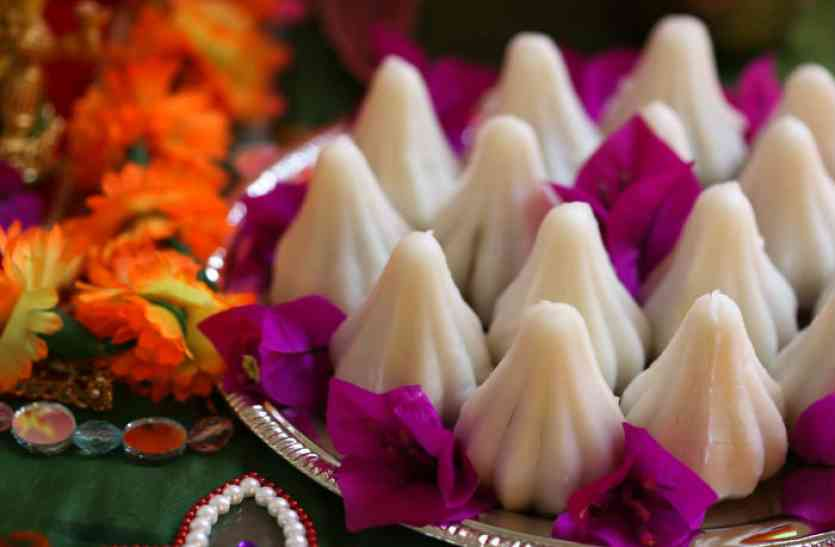modak: (625, 300, 810, 492), (347, 230, 511, 435), (269, 140, 443, 331), (500, 195, 658, 392), (467, 313, 625, 507)
